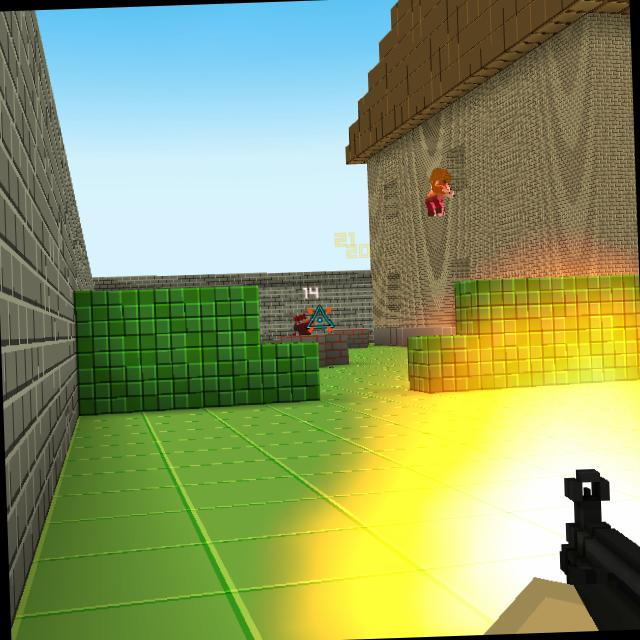enemy: (424, 165, 454, 218), (288, 306, 312, 336)
